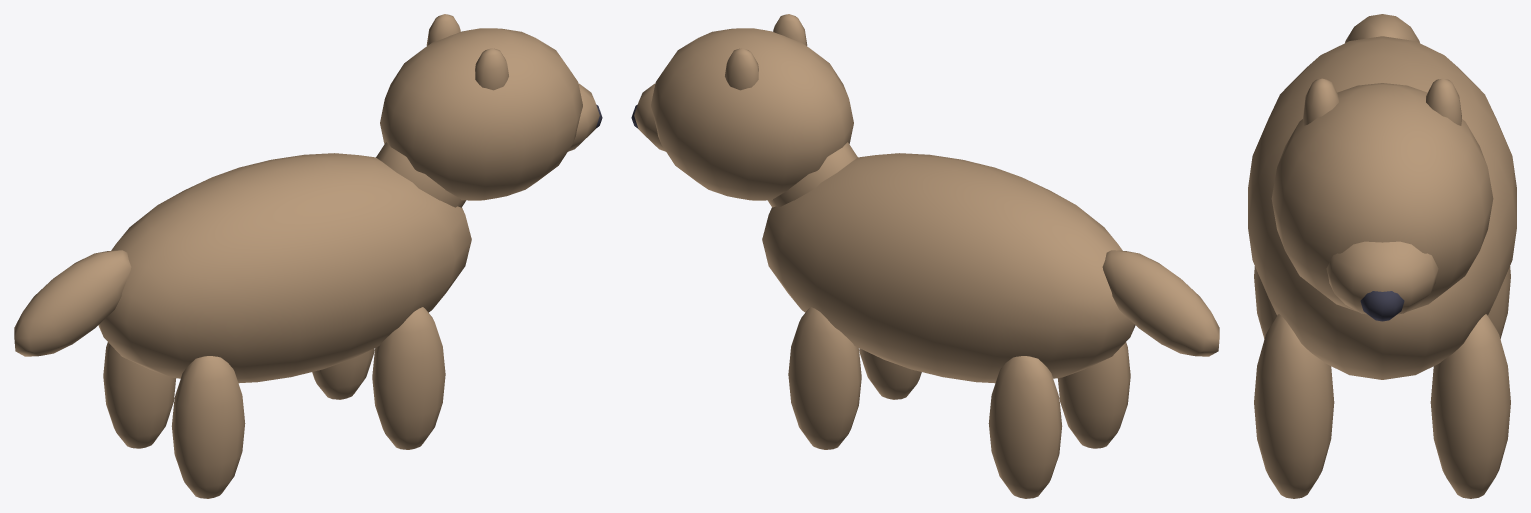
File: bear.glb
The picture shows the model from 3 angles, left to right: view 1: azimuth 30°, elevation 25°; view 2: azimuth 150°, elevation 25°; view 3: azimuth 270°, elevation 25°; orthographic projection. The views are drawn at different scales.
Parts seen in each view (by area): view 1: Body, Head, LegBackLeft, LegFrontLeft, Tail, LegBackRight, LegFrontRight, Neck, EarLeft, Snout, EarRight; view 2: Body, Head, LegBackRight, LegFrontRight, Tail, LegBackLeft, LegFrontLeft, Neck, EarRight, Snout, EarLeft; view 3: Head, Body, LegFrontLeft, LegFrontRight, Snout, Tail, EarLeft, EarRight, Nose, LegBackLeft, LegBackRight.
Boxes of the visible parts, box(x1,y1,x2,y2) form: Body: box(98, 153, 471, 383); Head: box(380, 28, 582, 200); LegBackLeft: box(171, 356, 245, 498); LegFrontLeft: box(372, 307, 445, 449); Tail: box(14, 250, 131, 356); LegBackRight: box(103, 342, 175, 448); LegFrontRight: box(312, 348, 374, 399); Neck: box(376, 142, 465, 207); EarLeft: box(475, 48, 508, 90); Snout: box(568, 83, 599, 151); EarRight: box(426, 14, 460, 45); Body: box(762, 153, 1135, 383); Head: box(651, 28, 853, 200); LegBackRight: box(988, 356, 1062, 498); LegFrontRight: box(788, 307, 861, 449); Tail: box(1102, 250, 1219, 356); LegBackLeft: box(1058, 342, 1130, 448); LegFrontLeft: box(859, 348, 921, 399); Neck: box(768, 142, 857, 207); EarRight: box(725, 48, 758, 90); Snout: box(634, 83, 665, 151); EarLeft: box(773, 14, 807, 45); Head: box(1271, 83, 1493, 311); Body: box(1248, 36, 1516, 379); LegFrontLeft: box(1254, 314, 1334, 498); LegFrontRight: box(1430, 314, 1510, 498); Snout: box(1326, 241, 1438, 314); Tail: box(1345, 14, 1419, 42); EarLeft: box(1303, 78, 1338, 125); EarRight: box(1426, 78, 1461, 125); Nose: box(1360, 291, 1404, 321); LegBackLeft: box(1254, 266, 1276, 338); LegBackRight: box(1488, 266, 1510, 338).
Size of the model in its own units: 2.28 by 1.38 by 0.7032.
